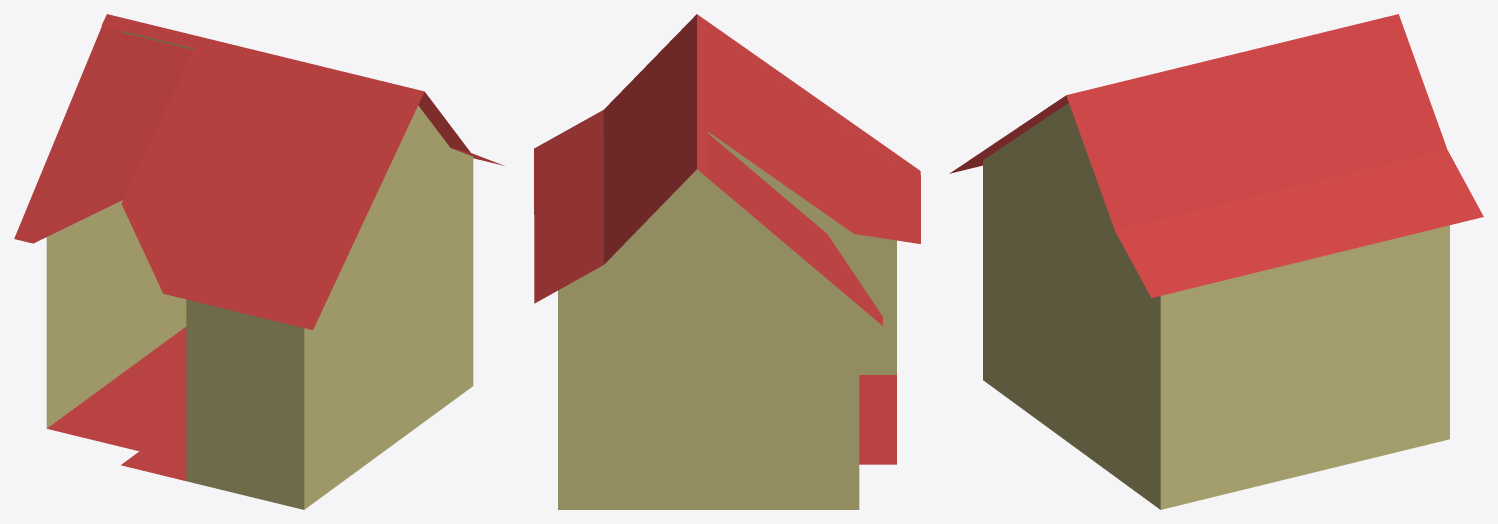
3 views of the same model, side by side, from view 1: azimuth 30°, elevation 25°; view 2: azimuth 150°, elevation 25°; view 3: azimuth 270°, elevation 25° (orthographic). The views are drawn at different scales.
Size of the model in its own units: 15.27 by 16.08 by 12.17.
